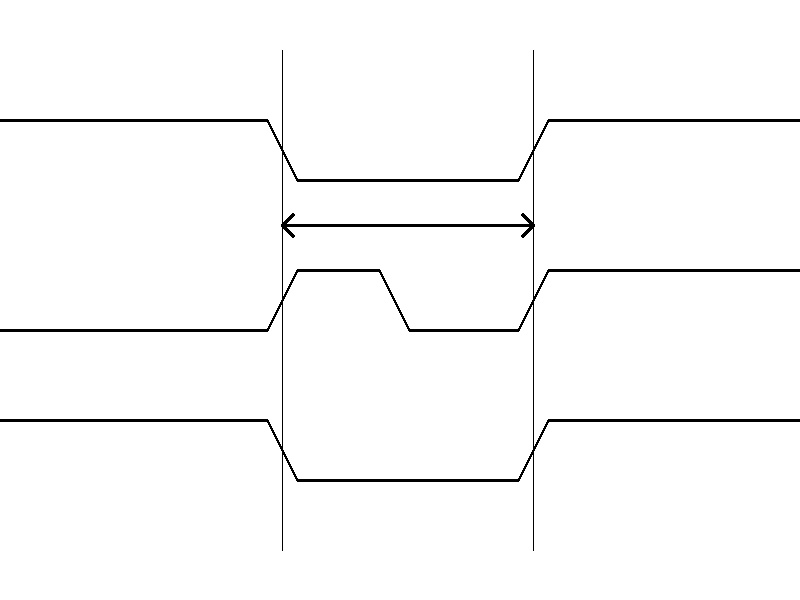double_arrow: (282, 210, 533, 240)
